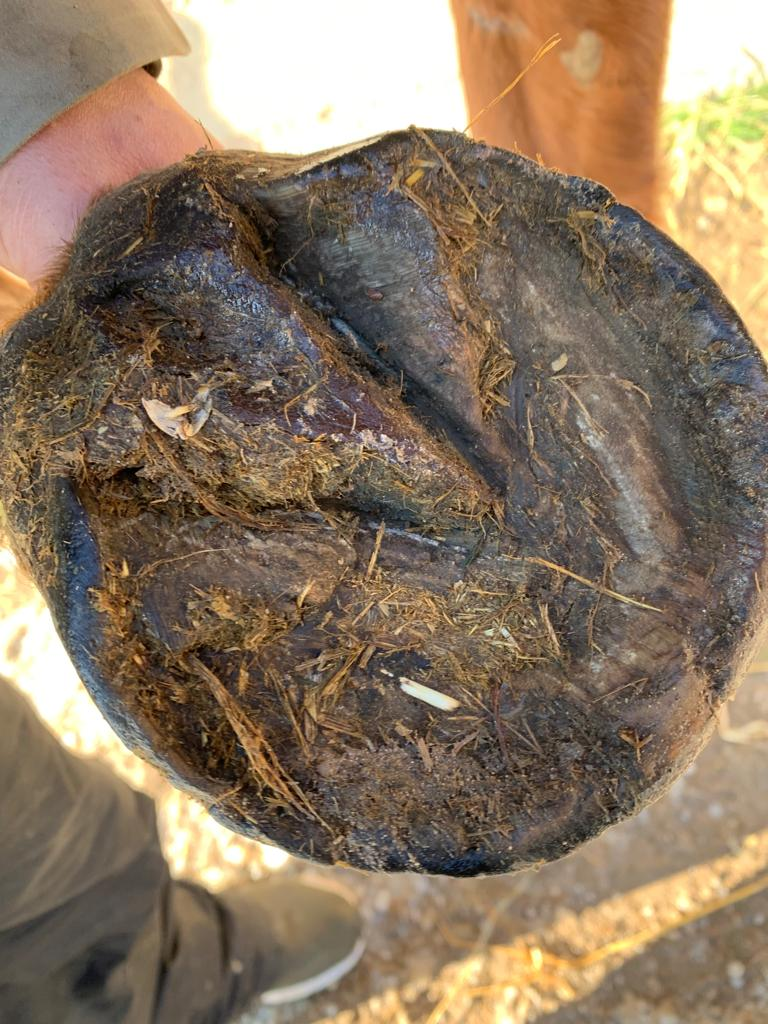horsesole: (57, 128, 768, 879)
